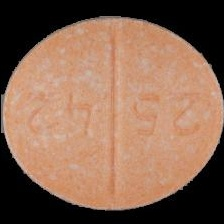33261-623: (0, 0, 224, 224)
